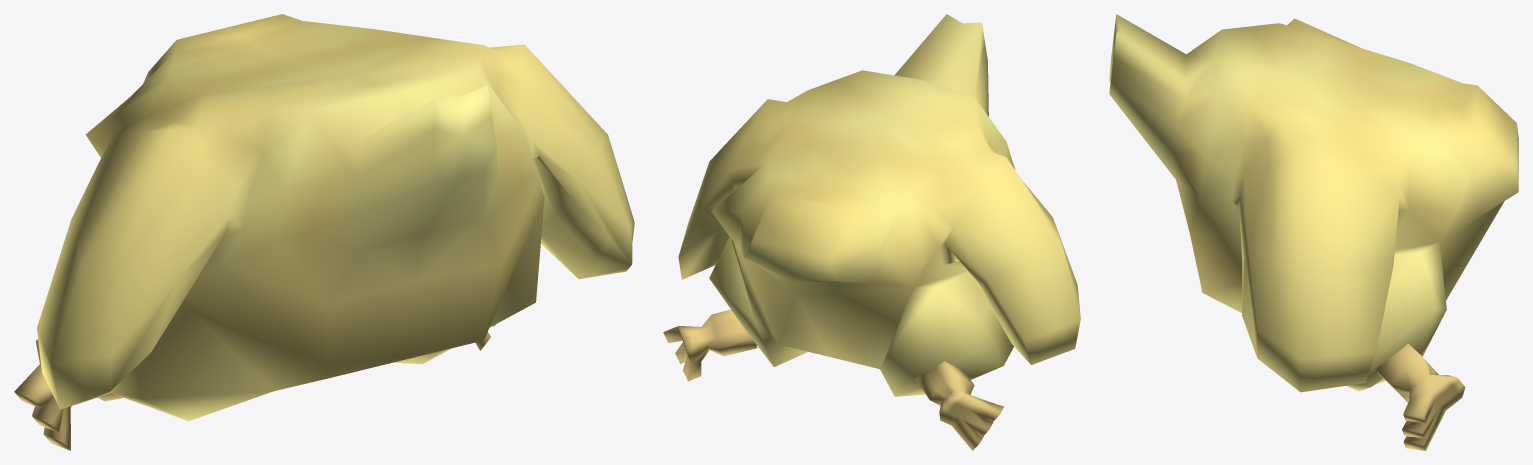
File: pollo_cocido.dae
3 renders of one model, left to right at view 1: azimuth 30°, elevation 25°; view 2: azimuth 150°, elevation 25°; view 3: azimuth 270°, elevation 25°, orthographic. The views are drawn at different scales.
Visible parts, largest first — view 1: pollo_cocido; view 2: pollo_cocido; view 3: pollo_cocido.
Boxes of the visible parts, x1,y1,x2,y2 form: pollo_cocido: (14, 14, 634, 450); pollo_cocido: (663, 14, 1080, 450); pollo_cocido: (1109, 14, 1518, 450).
Bounding box in the file's own units: 4.79 × 3.75 × 3.5.
1 material, 1 textured.
